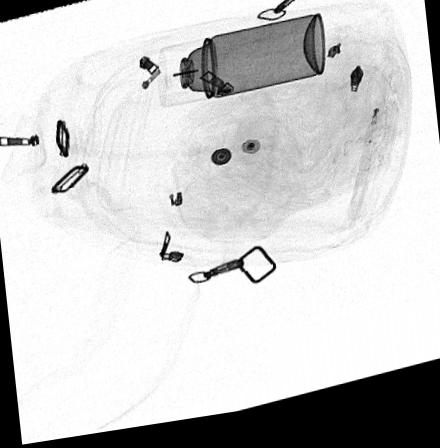Sprayer: (156, 23, 327, 113)
